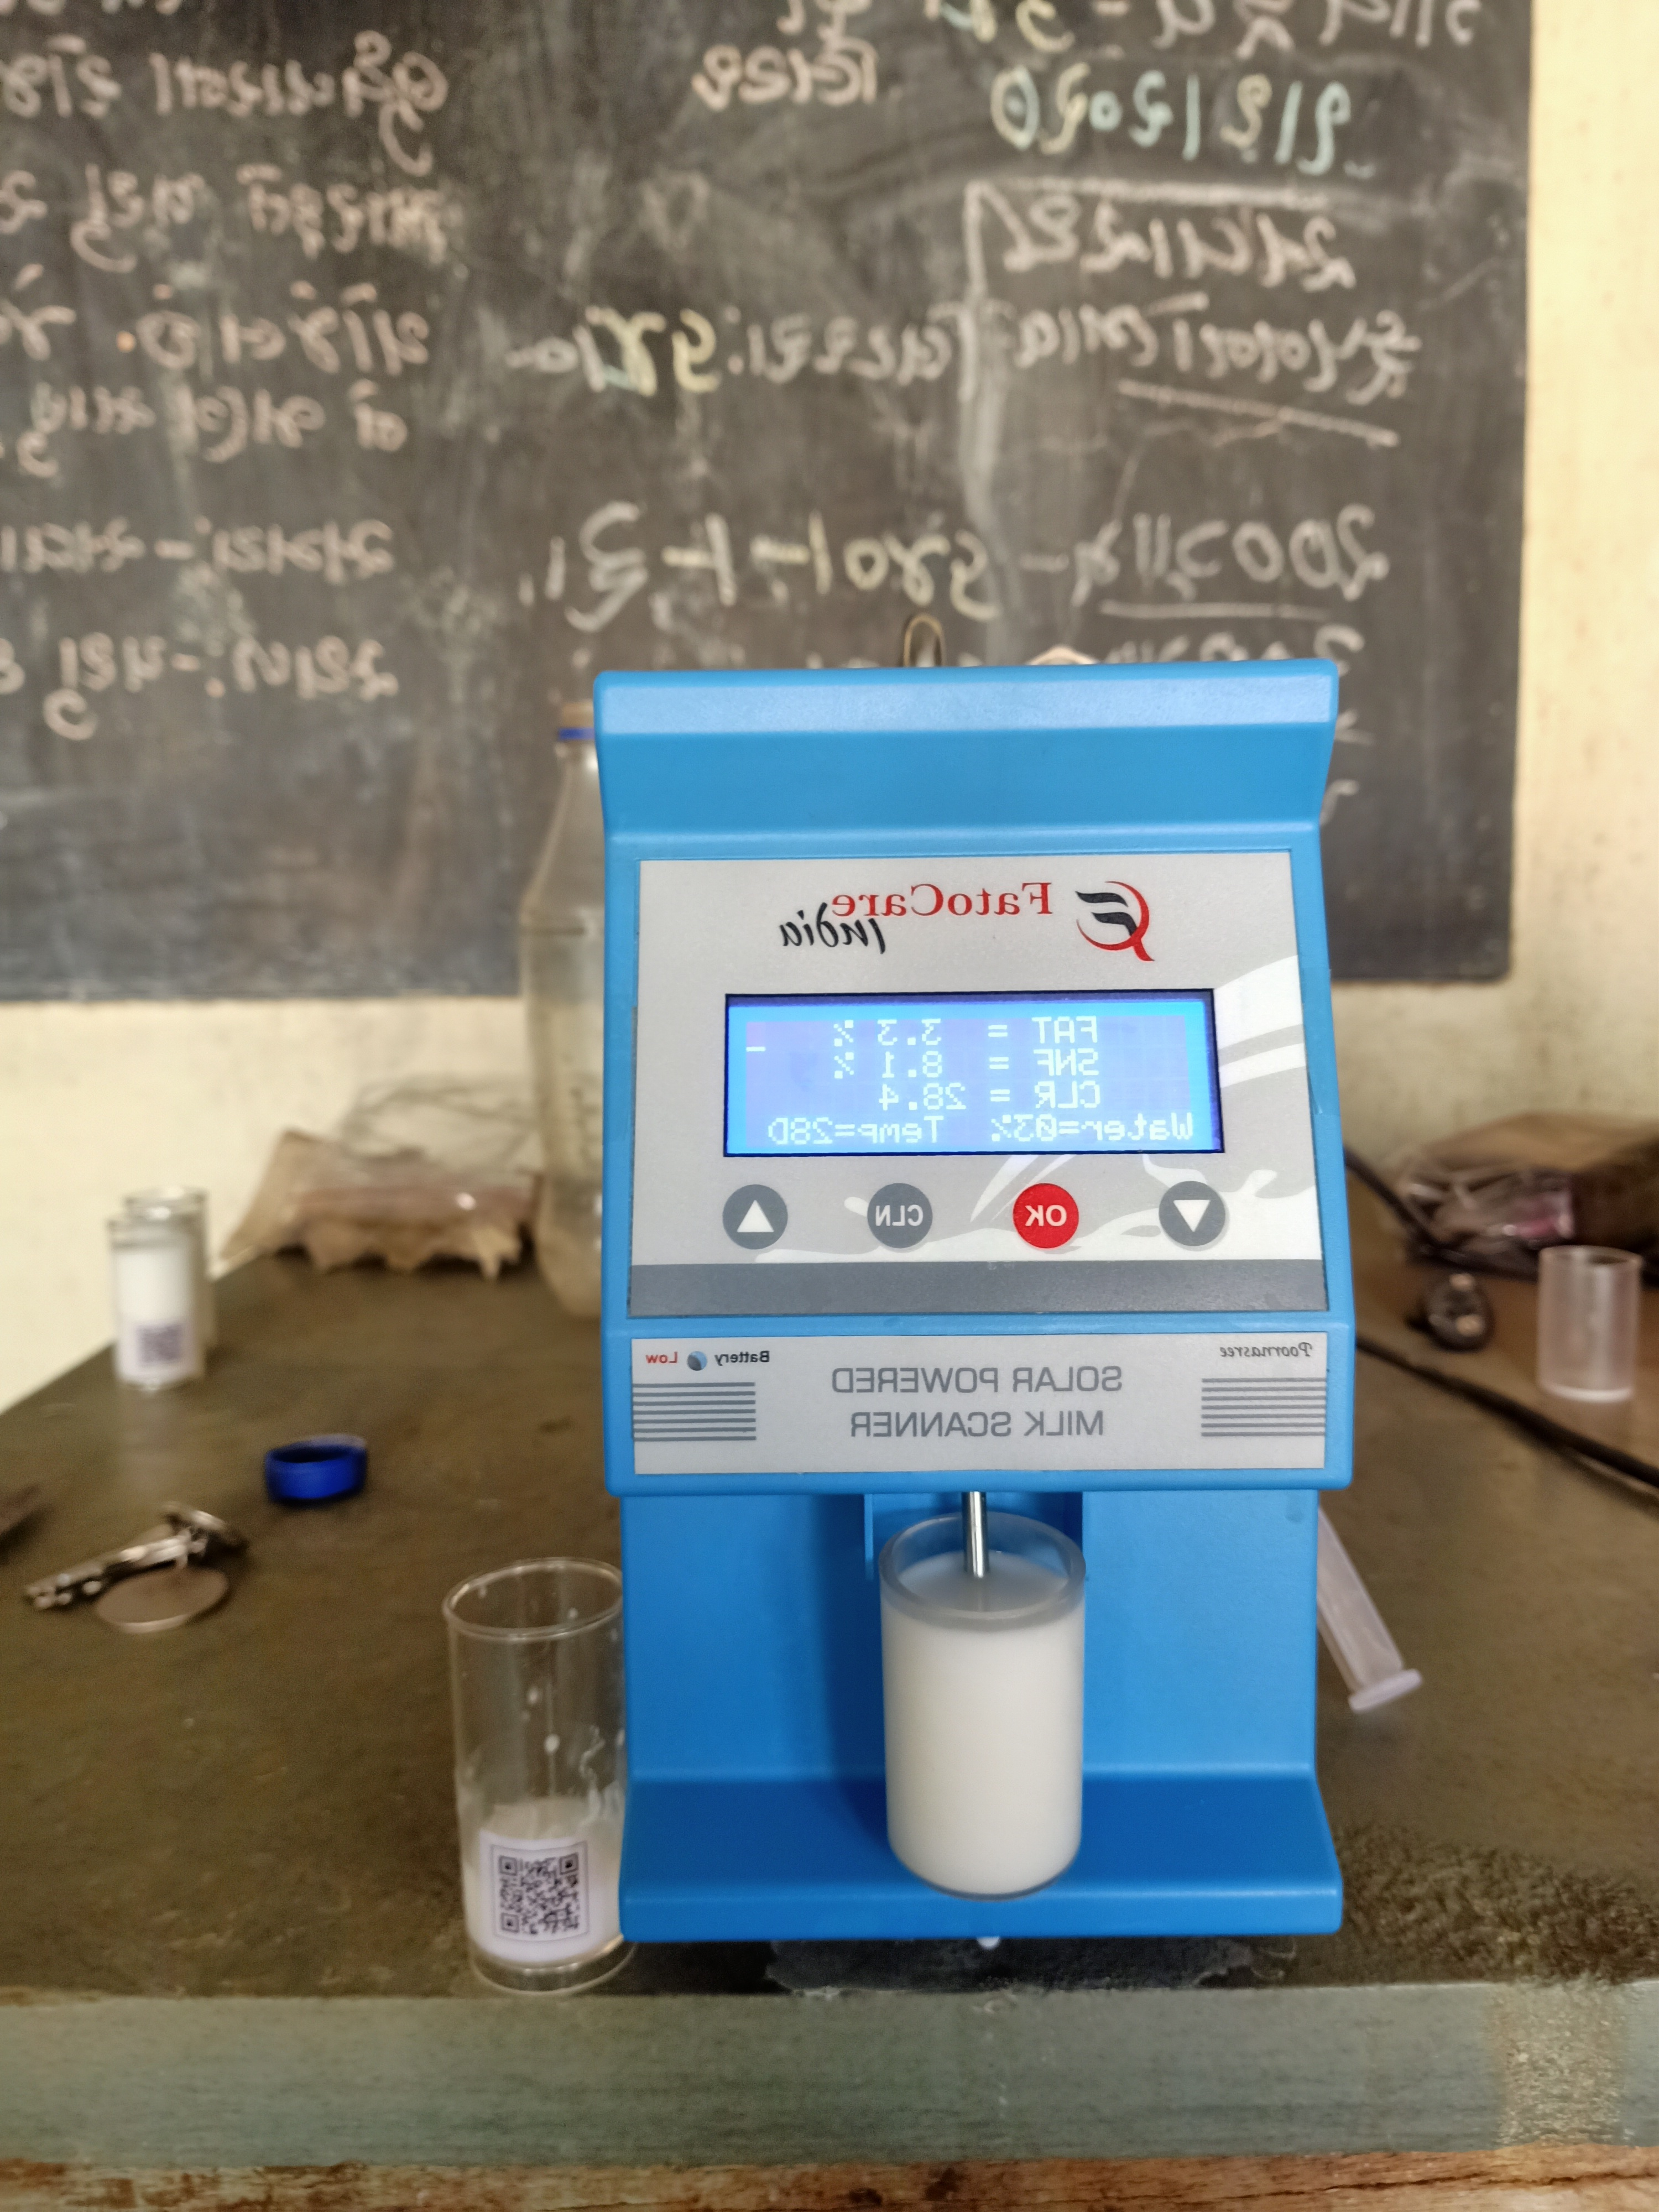lcd: (720, 979, 1246, 1200)
qr: (486, 1843, 589, 1956)
